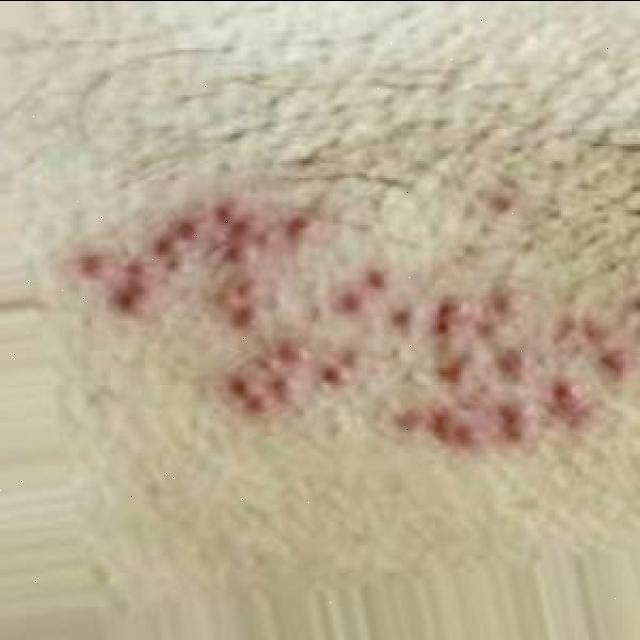Shingles: (72, 197, 634, 458)
